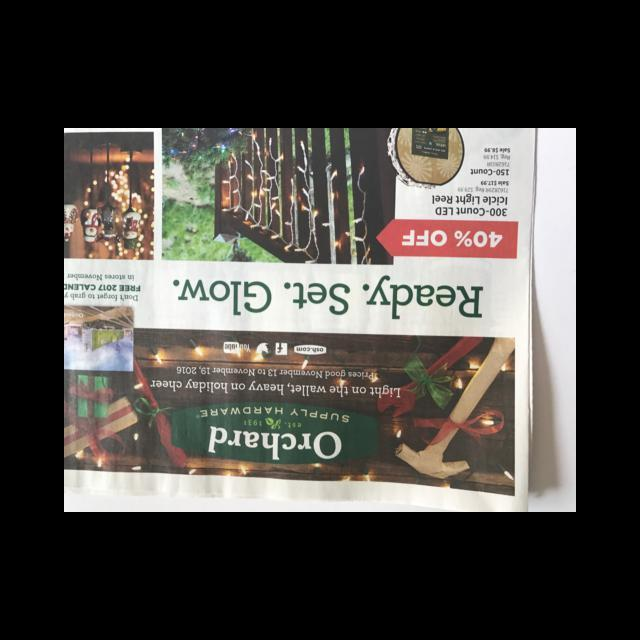paper: (64, 128, 533, 511)
